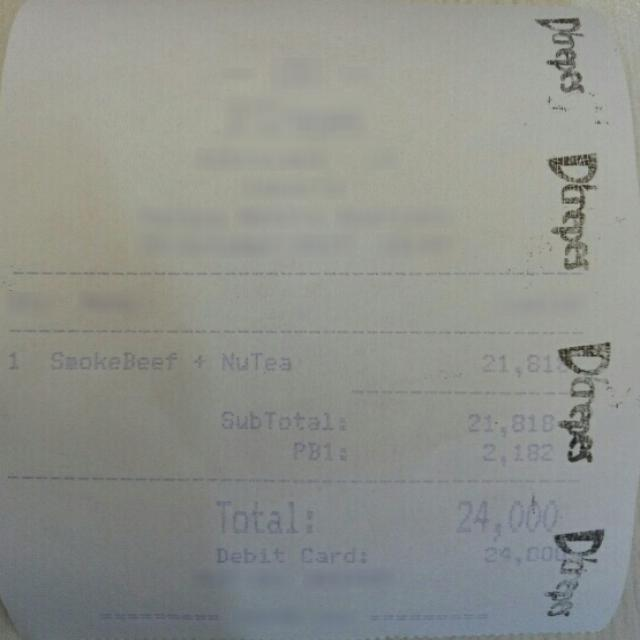text: (456, 496, 558, 538), (207, 498, 310, 536), (48, 349, 175, 371), (219, 410, 343, 429), (463, 410, 552, 436), (478, 353, 562, 378), (482, 541, 557, 563), (478, 443, 552, 464), (208, 544, 282, 563), (220, 351, 288, 371), (299, 546, 364, 562), (290, 441, 342, 459), (192, 352, 206, 366), (7, 350, 17, 368)
